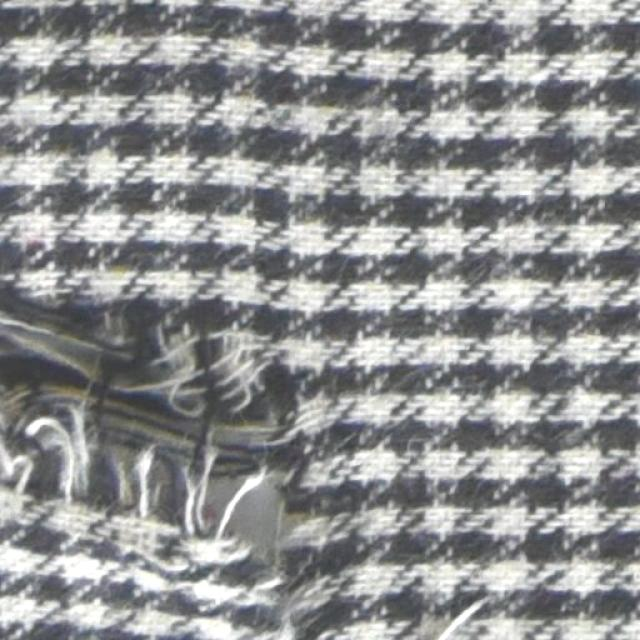Hole: (233, 473, 294, 565)
Snag: (0, 296, 326, 640)
